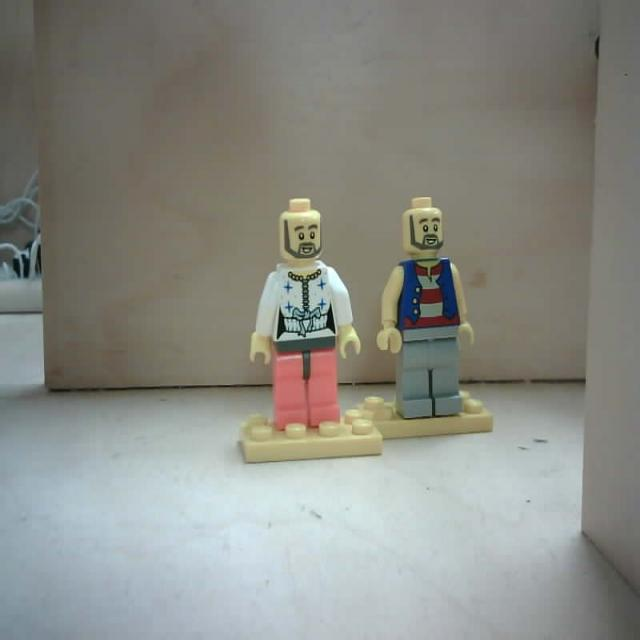Lego-People: (238, 198, 382, 464), (364, 195, 496, 440)
